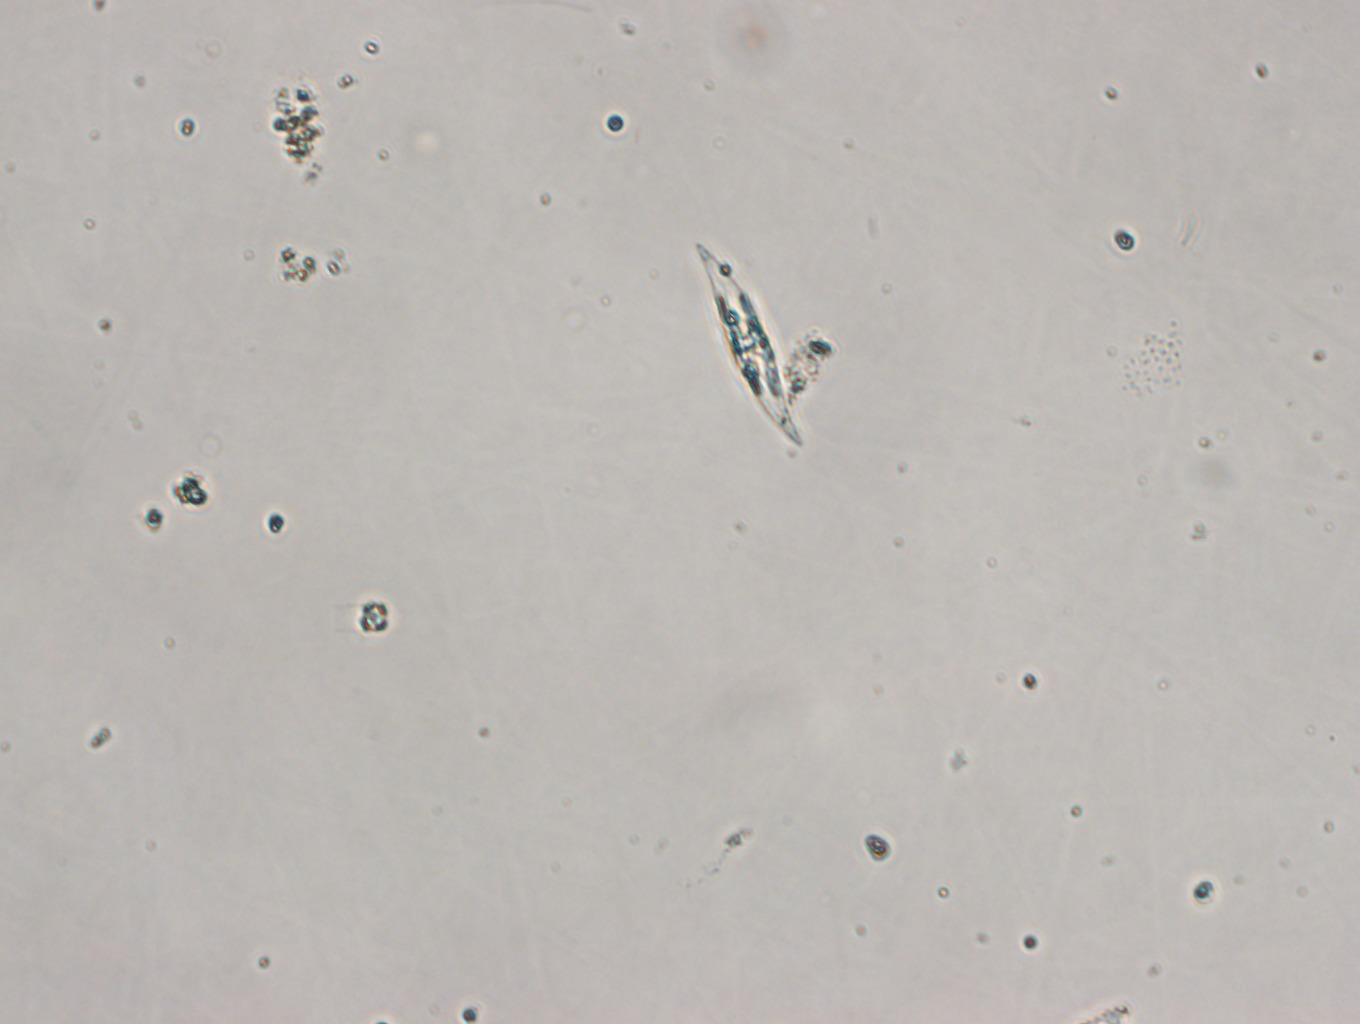pleurosigma pelagicum: (693, 238, 803, 447)
